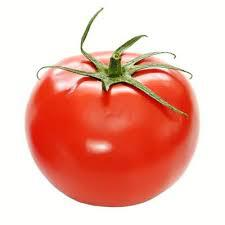tomato: (27, 50, 198, 207)
